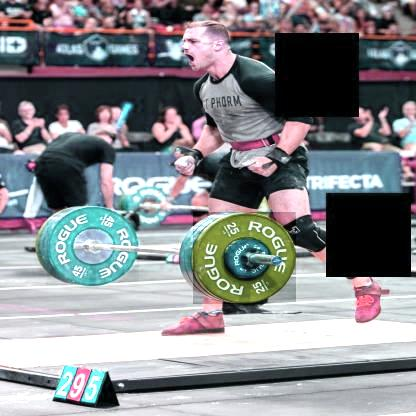barbell: (193, 212, 296, 304), (48, 206, 140, 288)
